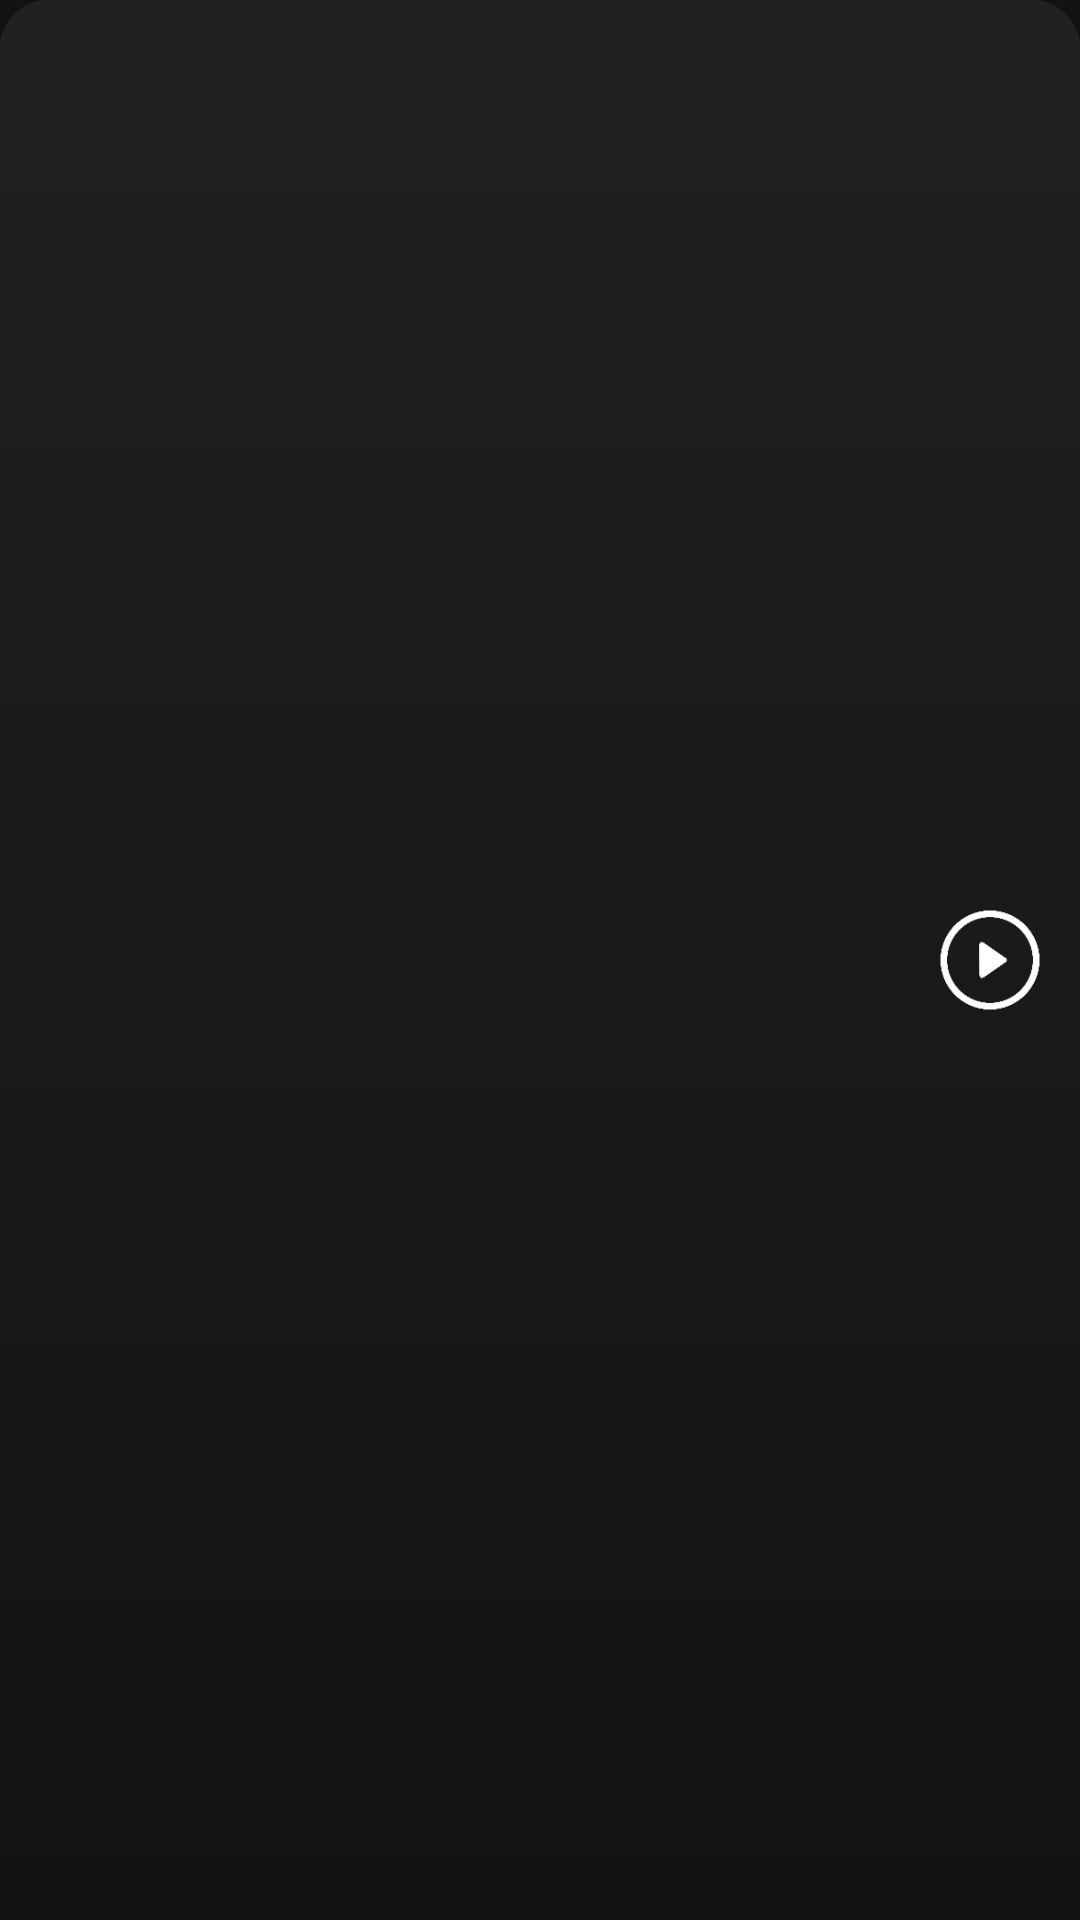

Where to tap for icons on this 1080×1920 app screen, as (x,y):
play: (990,960)
